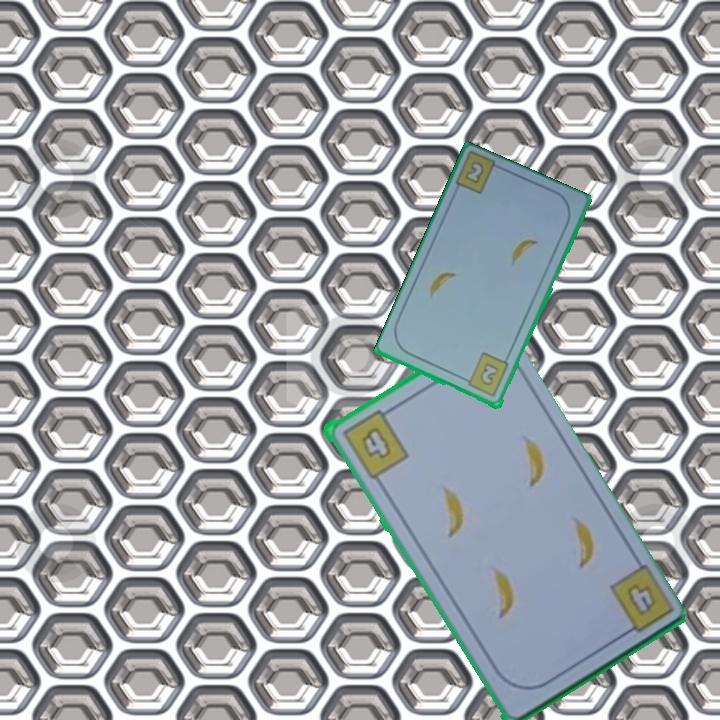2b: (460, 349, 512, 400), (464, 160, 485, 184)
4b: (605, 561, 675, 642), (338, 404, 411, 481)
